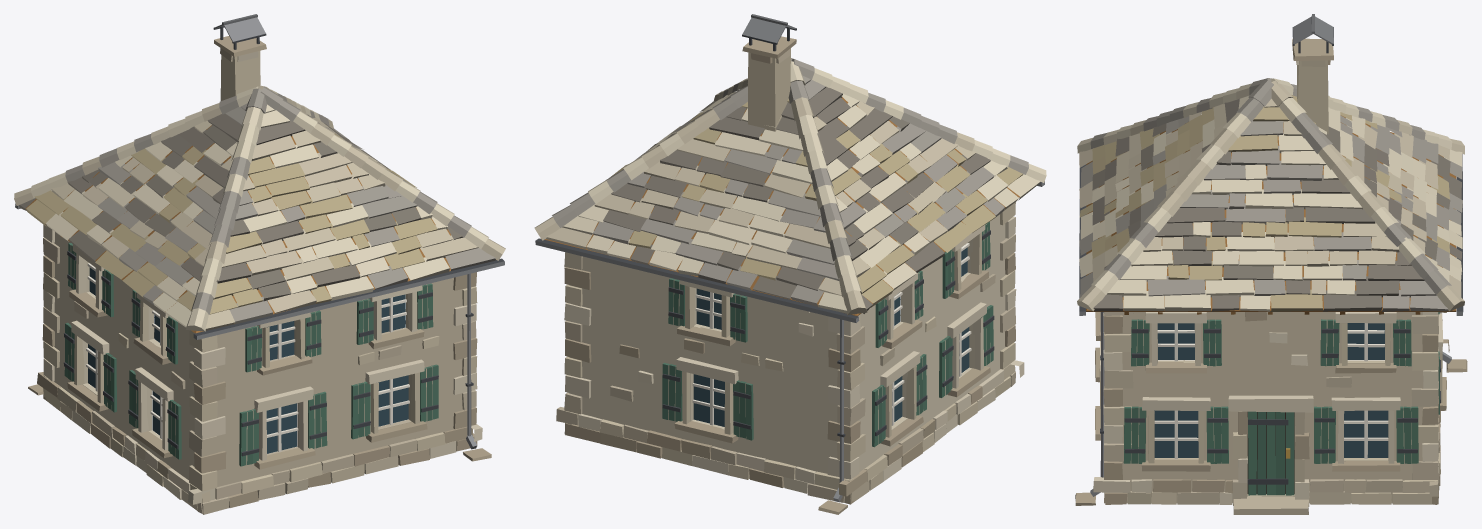
The model's file is presbytere.glb.
3 views of the same model, side by side, from view 1: azimuth 30°, elevation 25°; view 2: azimuth 150°, elevation 25°; view 3: azimuth 270°, elevation 25° (orthographic). The views are drawn at different scales.
Visible parts, largest first — view 1: presbytere; view 2: presbytere; view 3: presbytere.
Part boxes in pixels (box(x1,y1,x2,y2)): presbytere: box(14, 14, 505, 514); presbytere: box(534, 14, 1046, 514); presbytere: box(1075, 14, 1467, 514).
Bounding box in the file's own units: 8.27 × 9.7 × 8.36.
